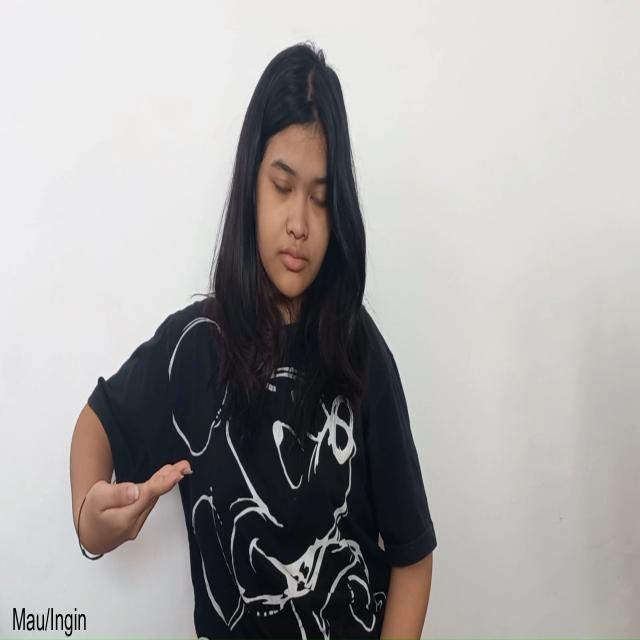Mau-Ingin -BISINDO-: (76, 458, 195, 557)
